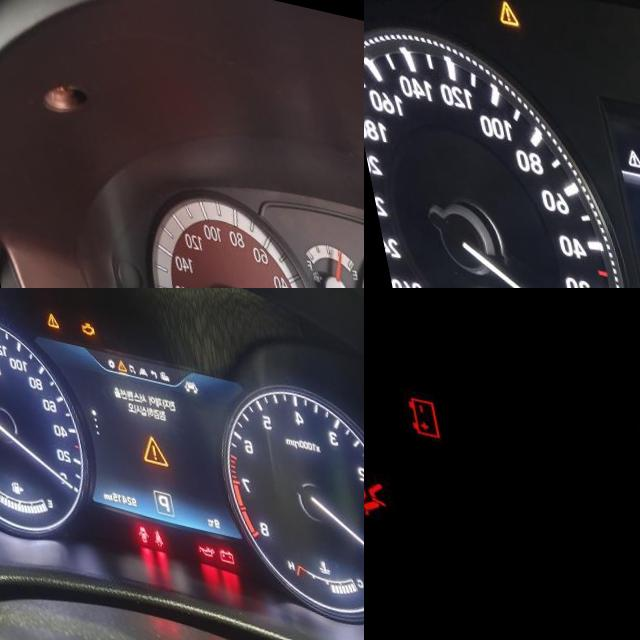Central Warning lamp: (127, 416, 158, 453), (492, 0, 516, 19), (38, 300, 53, 317)
Doors: (122, 511, 135, 530)
